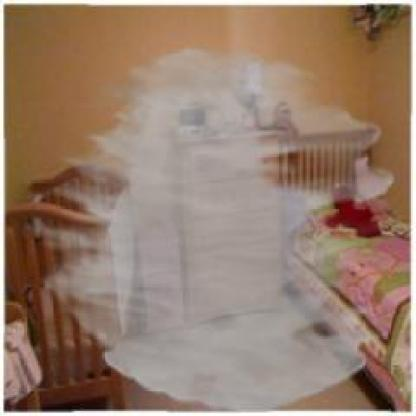Smoke: (38, 47, 394, 412)
